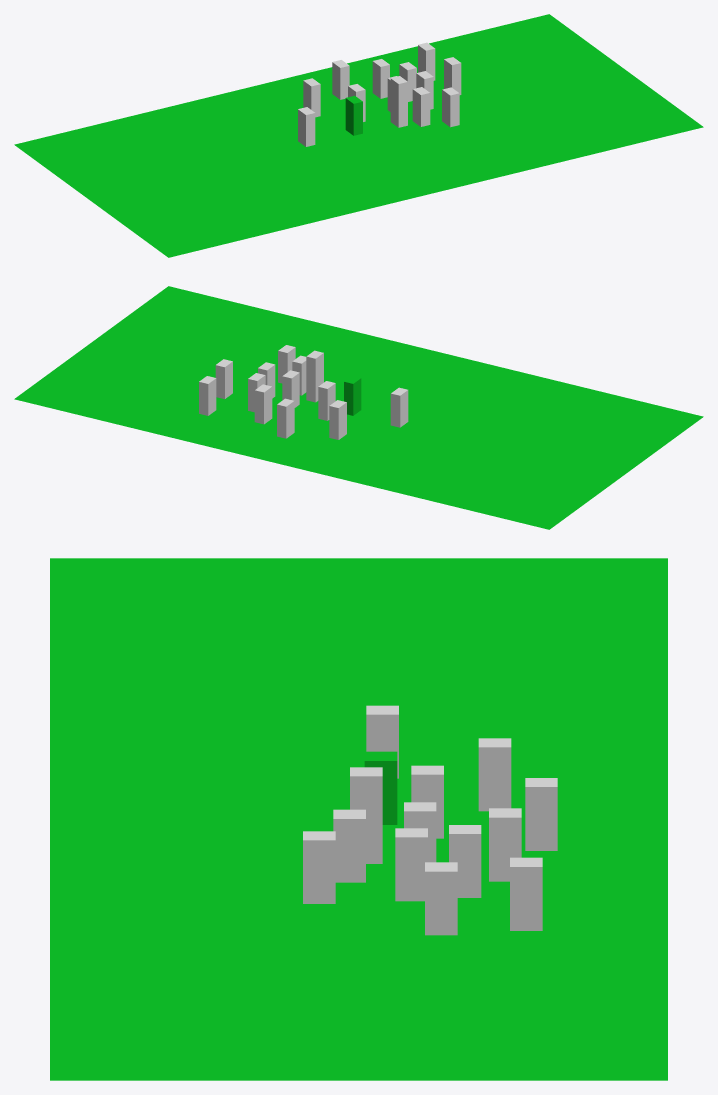
The picture shows the model from 3 angles, top to bottom: view 1: azimuth 30°, elevation 25°; view 2: azimuth 150°, elevation 25°; view 3: azimuth 270°, elevation 25°; orthographic projection. The views are drawn at different scales.
Parts seen in each view (by area): view 1: Plane, Cube_2, Cube_3, Cube_1, Cube, Cube_9, Cube_5, Cube_8, Cube_13, Cube_12, Cube_11, Cube_7; view 2: Plane, Cube_2, Cube_8, Cube, Cube_5, Cube_13, Cube_11, Cube_12, Cube_1, Cube_10, Cube_6, Cube_9 (+2 smaller); view 3: Plane, Cube_13, Cube_12, Cube_11, Cube_9, Cube_5, Cube_3, Cube_2, Cube_4, Cube_8, Cube_7, Cube (+3 smaller).
Part boxes in pixels (x1=…): Plane: x1=14, y1=14, x2=703, y2=257; Cube_2: x1=390, y1=76, x2=407, y2=127; Cube_3: x1=412, y1=87, x2=430, y2=126; Cube_1: x1=345, y1=95, x2=362, y2=135; Cube: x1=298, y1=107, x2=315, y2=146; Cube_9: x1=442, y1=87, x2=459, y2=127; Cube_5: x1=332, y1=60, x2=349, y2=99; Cube_8: x1=372, y1=59, x2=389, y2=98; Cube_13: x1=303, y1=78, x2=320, y2=117; Cube_12: x1=444, y1=57, x2=461, y2=94; Cube_11: x1=418, y1=42, x2=435, y2=80; Cube_7: x1=399, y1=62, x2=416, y2=101; Plane: x1=14, y1=286, x2=703, y2=529; Cube_2: x1=306, y1=350, x2=323, y2=402; Cube_8: x1=254, y1=384, x2=272, y2=424; Cube: x1=390, y1=387, x2=408, y2=427; Cube_5: x1=277, y1=398, x2=294, y2=438; Cube_13: x1=329, y1=400, x2=346, y2=439; Cube_11: x1=199, y1=376, x2=216, y2=415; Cube_12: x1=215, y1=359, x2=232, y2=399; Cube_1: x1=344, y1=375, x2=361, y2=415; Cube_10: x1=318, y1=381, x2=335, y2=420; Cube_6: x1=282, y1=370, x2=299, y2=407; Cube_9: x1=278, y1=345, x2=295, y2=383; Plane: x1=50, y1=558, x2=667, y2=1080; Cube_13: x1=478, y1=738, x2=511, y2=811; Cube_12: x1=425, y1=862, x2=457, y2=935; Cube_11: x1=510, y1=857, x2=542, y2=930; Cube_9: x1=303, y1=831, x2=335, y2=903; Cube_5: x1=525, y1=778, x2=557, y2=850; Cube_3: x1=333, y1=809, x2=365, y2=882; Cube_2: x1=350, y1=767, x2=382, y2=863; Cube_4: x1=395, y1=828, x2=427, y2=901; Cube_8: x1=489, y1=808, x2=521, y2=881; Cube_7: x1=449, y1=825, x2=481, y2=897; Cube: x1=366, y1=705, x2=398, y2=778.
Bounding box in the file's own units: 800 × 63.69 × 400.
